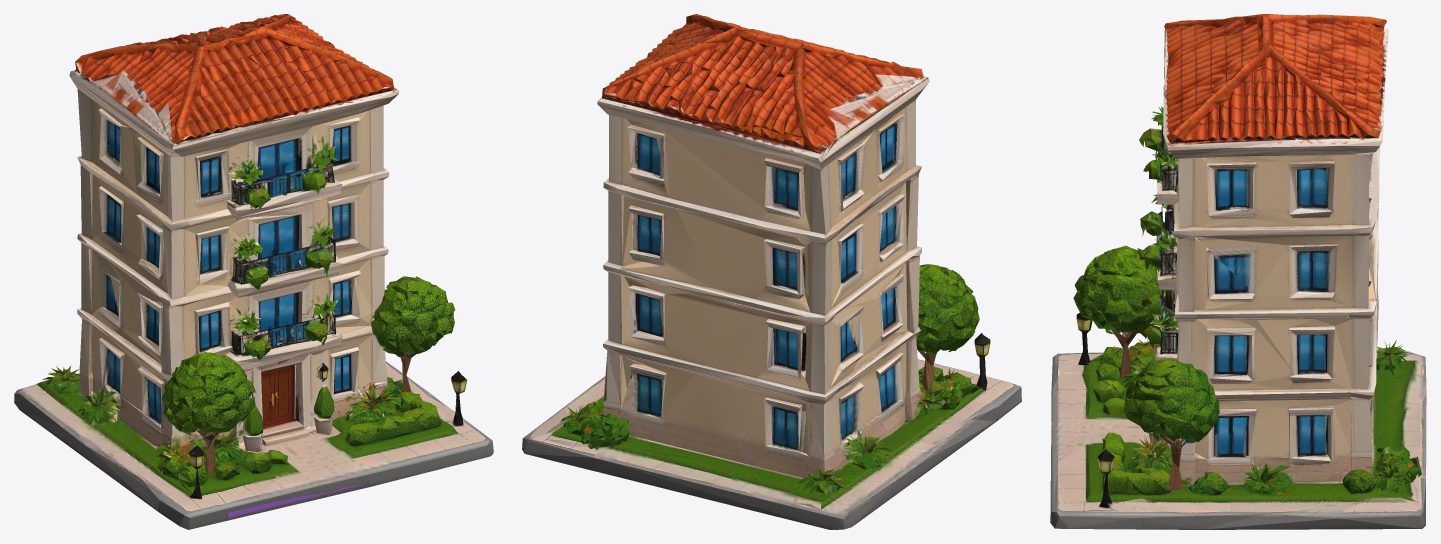
Rendered from property-level-4-meshy-v1.glb.
The picture shows the model from 3 angles, left to right: view 1: azimuth 30°, elevation 25°; view 2: azimuth 150°, elevation 25°; view 3: azimuth 270°, elevation 25°; orthographic projection. The views are drawn at different scales.
Parts seen in each view (by area): view 1: PROPERTY_LEVEL_4; view 2: PROPERTY_LEVEL_4; view 3: PROPERTY_LEVEL_4.
Part boxes in pixels (left/top/right/bottom): PROPERTY_LEVEL_4: left=14, top=14, right=493, bottom=529; PROPERTY_LEVEL_4: left=522, top=14, right=1021, bottom=529; PROPERTY_LEVEL_4: left=1050, top=14, right=1426, bottom=529.
Bounding box in the file's own units: 1 × 1.15 × 0.9433.
Materials: 2 (1 with a texture image).
